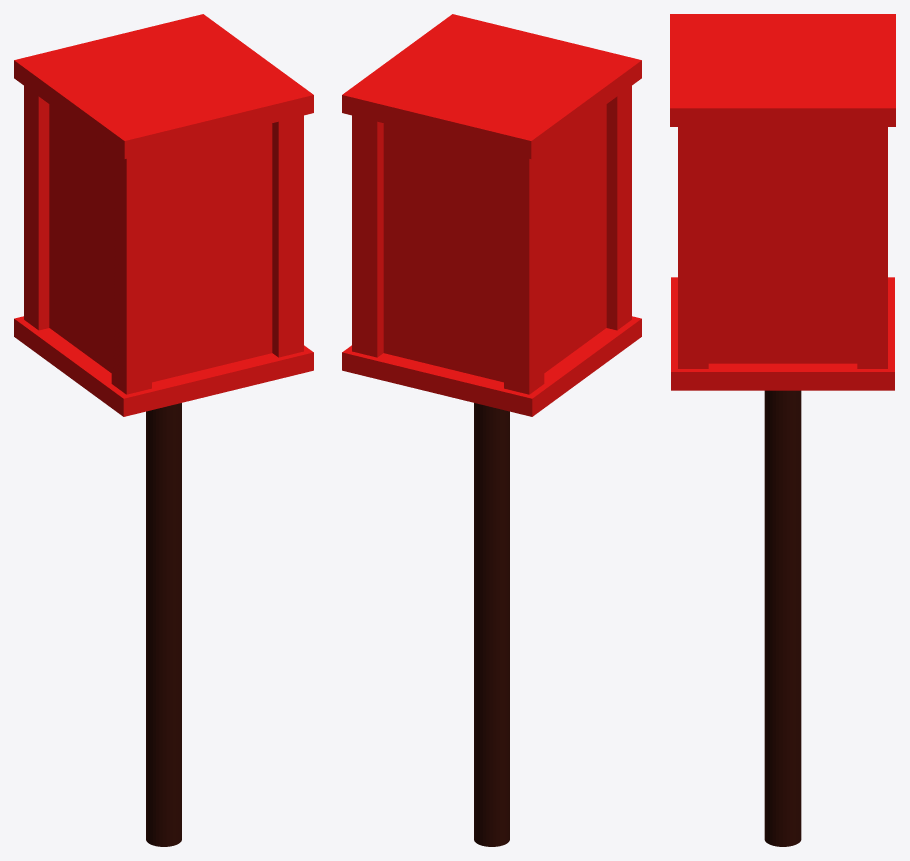
The model's file is lampboi.obj.
3 renders of one model, left to right at view 1: azimuth 30°, elevation 25°; view 2: azimuth 150°, elevation 25°; view 3: azimuth 270°, elevation 25°, orthographic. The views are drawn at different scales.
Parts seen in each view (by area): view 1: Cube, Cylinder; view 2: Cube, Cylinder; view 3: Cube, Cylinder.
Boxes of the visible parts, x1,y1,x2,y2 form: Cube: [14, 14, 313, 416]; Cylinder: [146, 403, 181, 846]; Cube: [342, 14, 641, 416]; Cylinder: [474, 403, 509, 846]; Cube: [670, 14, 895, 390]; Cylinder: [764, 390, 801, 846].
Bounding box in the file's own units: 2.43 × 9.32 × 2.45.
